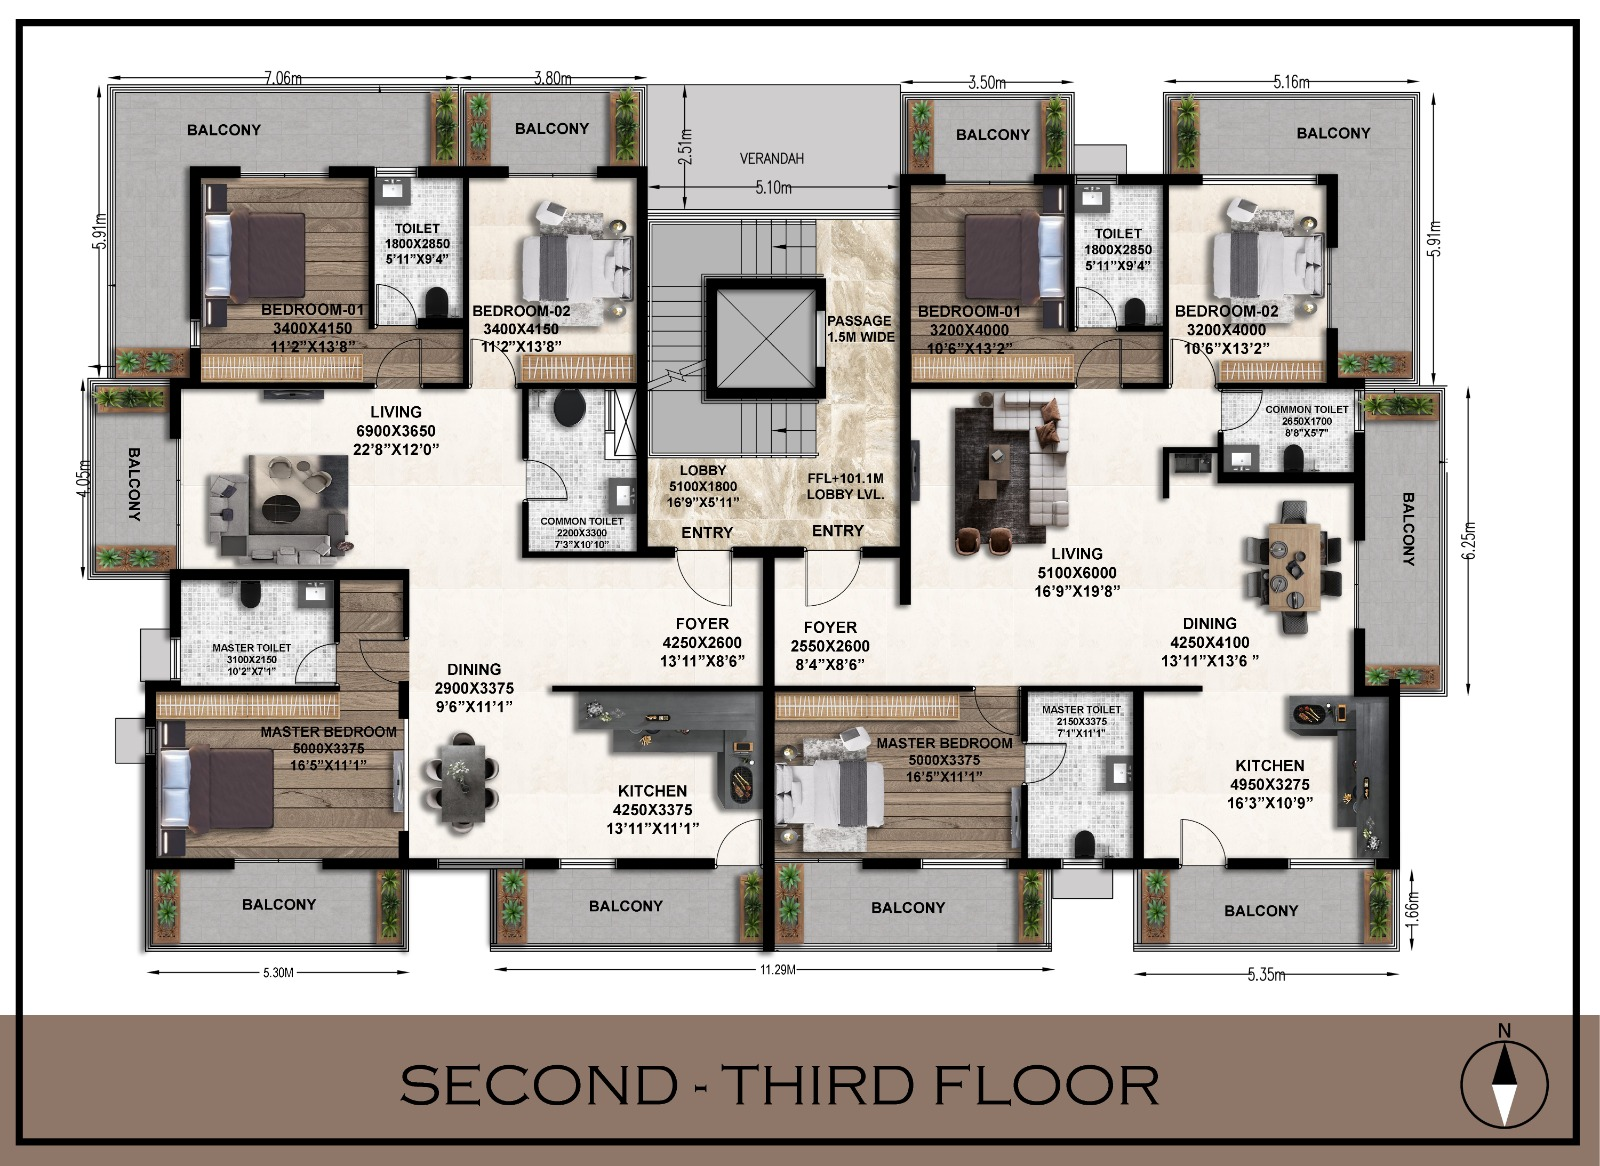door: (672, 550, 737, 608), (802, 551, 866, 607), (1178, 813, 1231, 868), (1075, 338, 1127, 390), (971, 685, 1022, 739), (468, 335, 519, 387), (375, 338, 425, 389), (1170, 335, 1216, 389), (714, 817, 764, 865), (1217, 385, 1267, 433), (1073, 283, 1123, 332), (373, 279, 419, 328), (358, 637, 404, 685), (1025, 741, 1070, 787), (293, 644, 338, 689), (525, 458, 569, 504)
